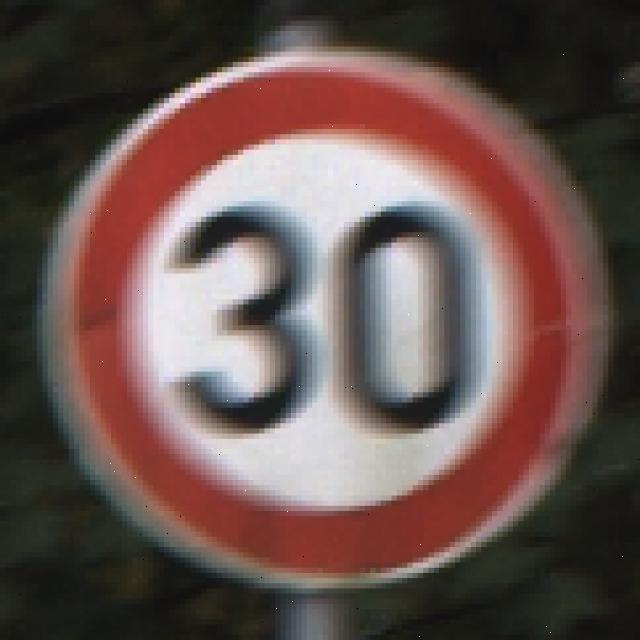speed limit 30: (34, 55, 603, 590)
